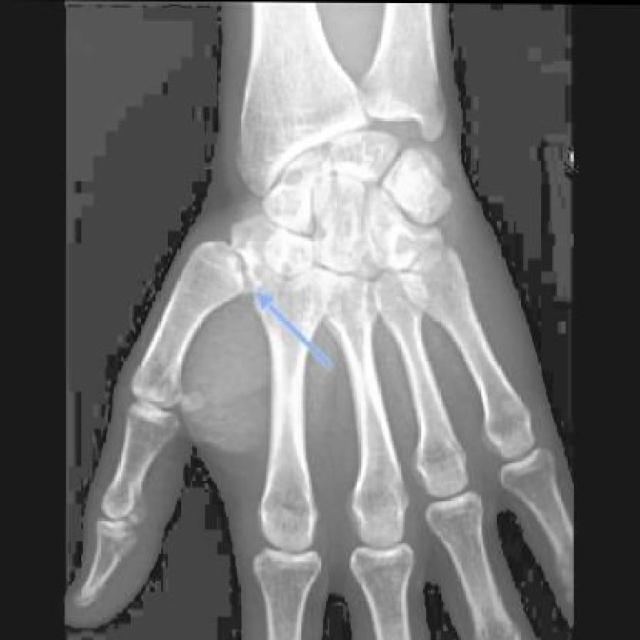Fracture: (220, 249, 282, 319)
